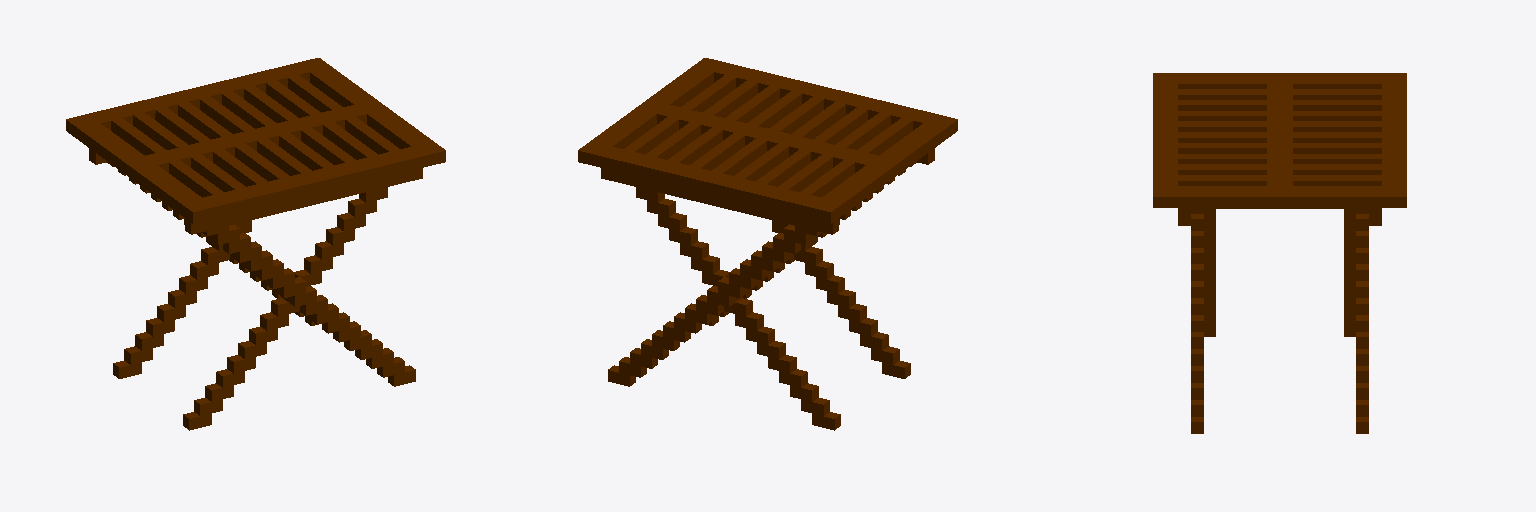
The picture shows the model from 3 angles: view 1: azimuth 30°, elevation 25°; view 2: azimuth 150°, elevation 25°; view 3: azimuth 270°, elevation 25°; orthographic projection.
Visible parts, largest first — view 1: table-c; view 2: table-c; view 3: table-c.
Part boxes in pixels (x1,y1,x2,y2): table-c: (66, 58, 445, 430); table-c: (578, 58, 957, 430); table-c: (1153, 73, 1406, 433).
Size of the model in its own units: 2.3 by 2.1 by 2.
Materials: 1 (1 with a texture image).